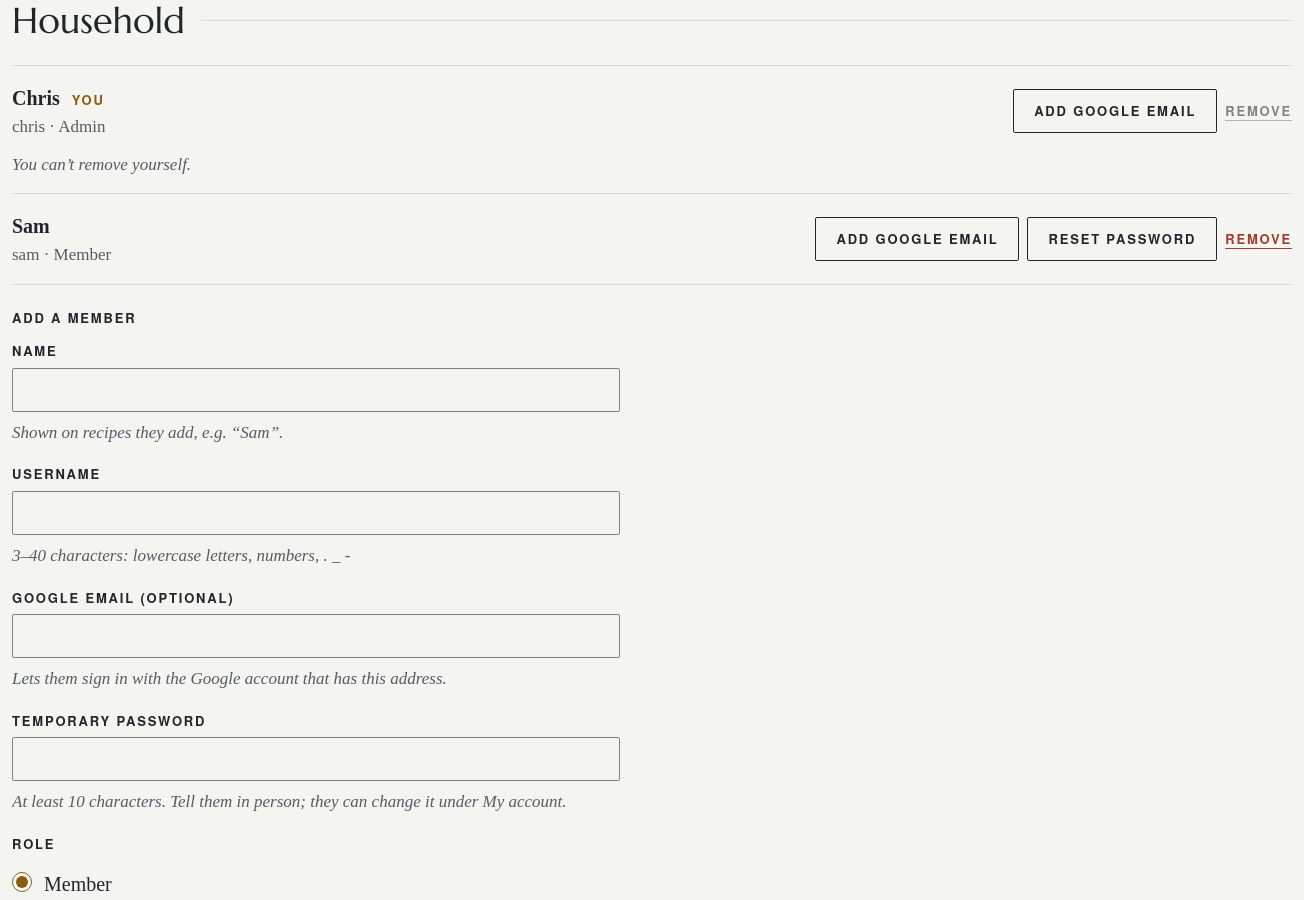
Test case: HouseholdSection › adds a member and lists them
Type "Alex" into the field labelled "Name" at (316, 390), box [12,368,620,412]
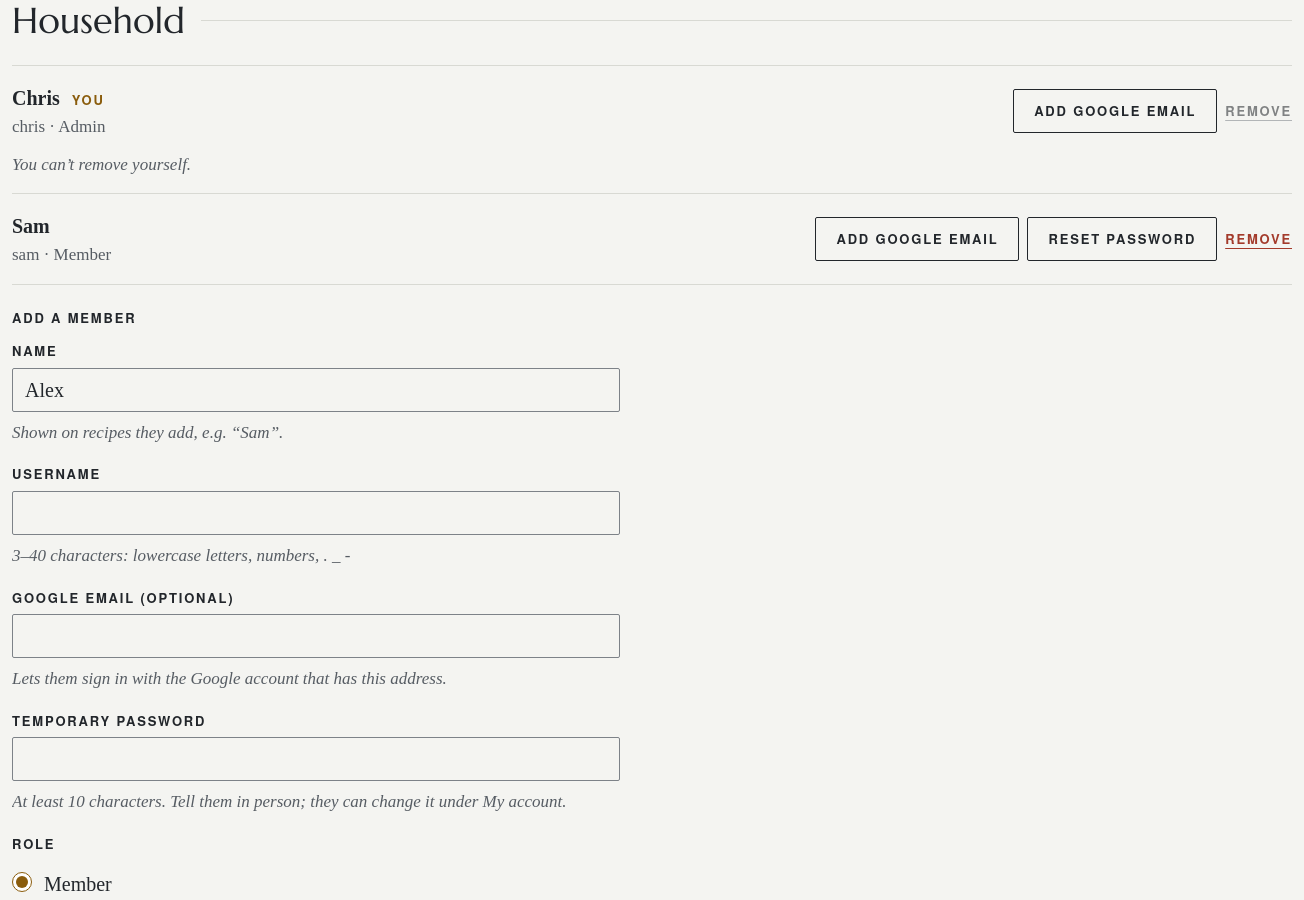
Type "alex" into the field labelled "Username" at (316, 513), box [12,491,620,535]
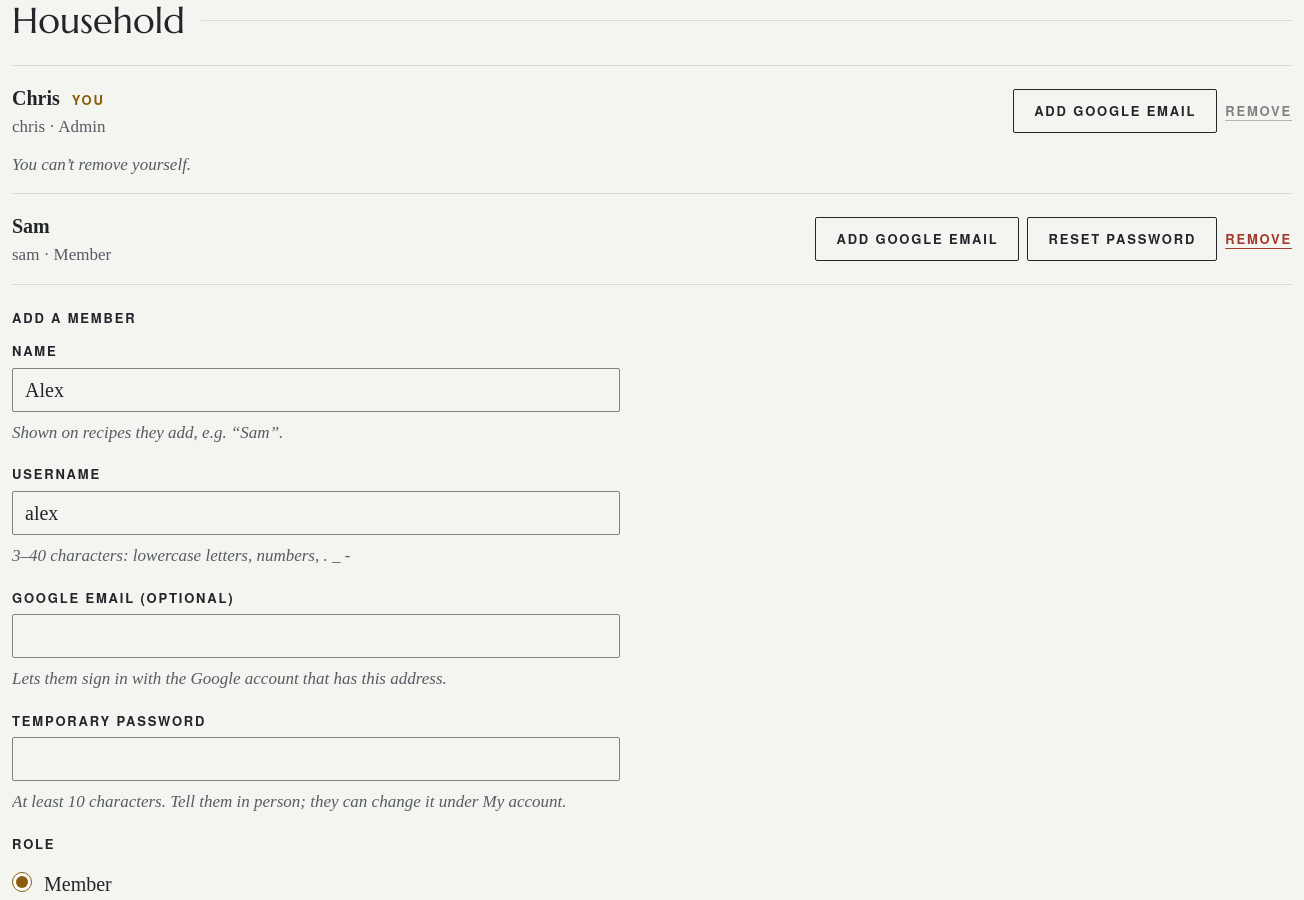
Type "longenough1" into the password field labelled "Temporary password" at (316, 759), box [12,737,620,781]
(page scrolled)
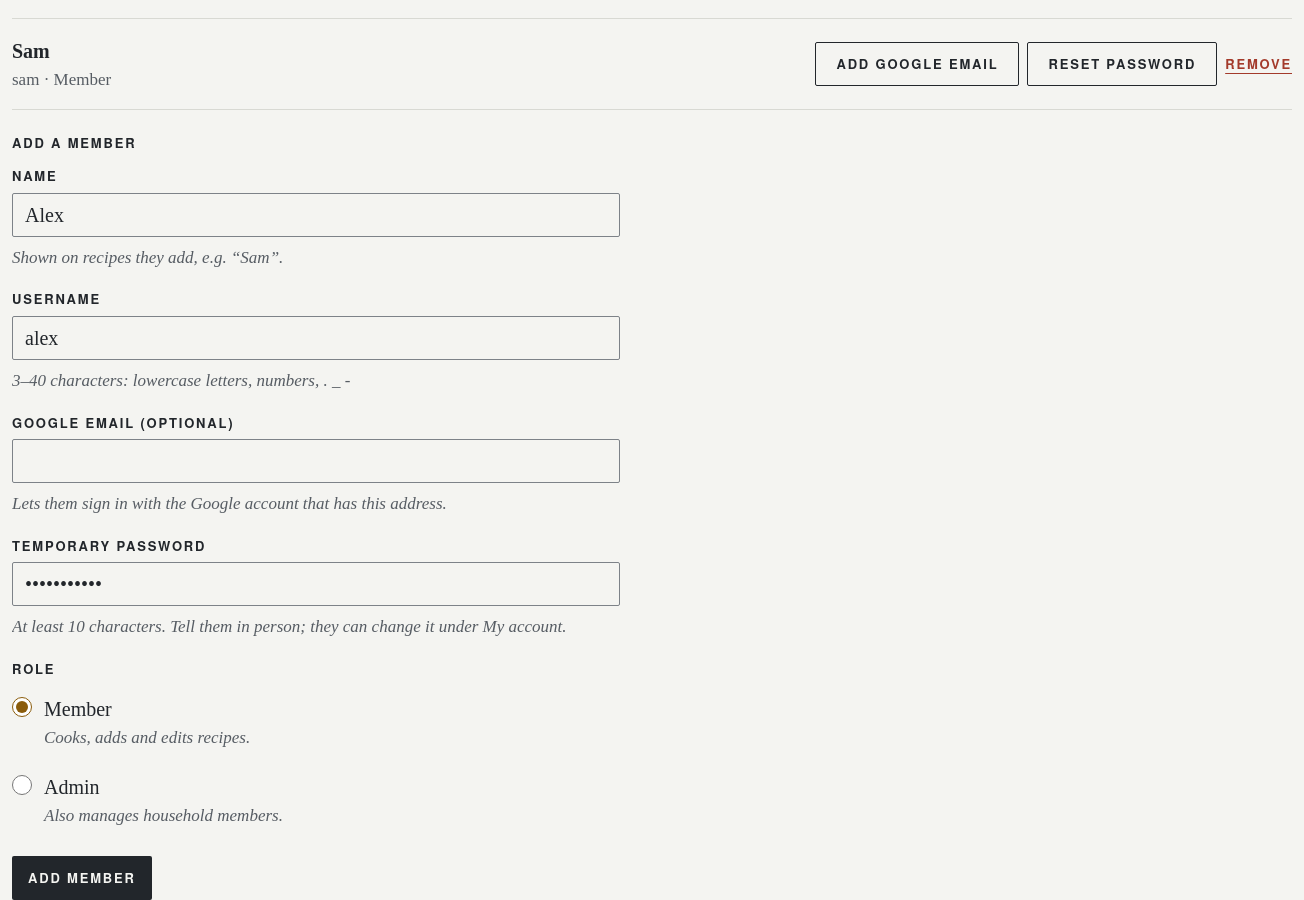
Submit the form, box [12,167,620,899]
(page scrolled)
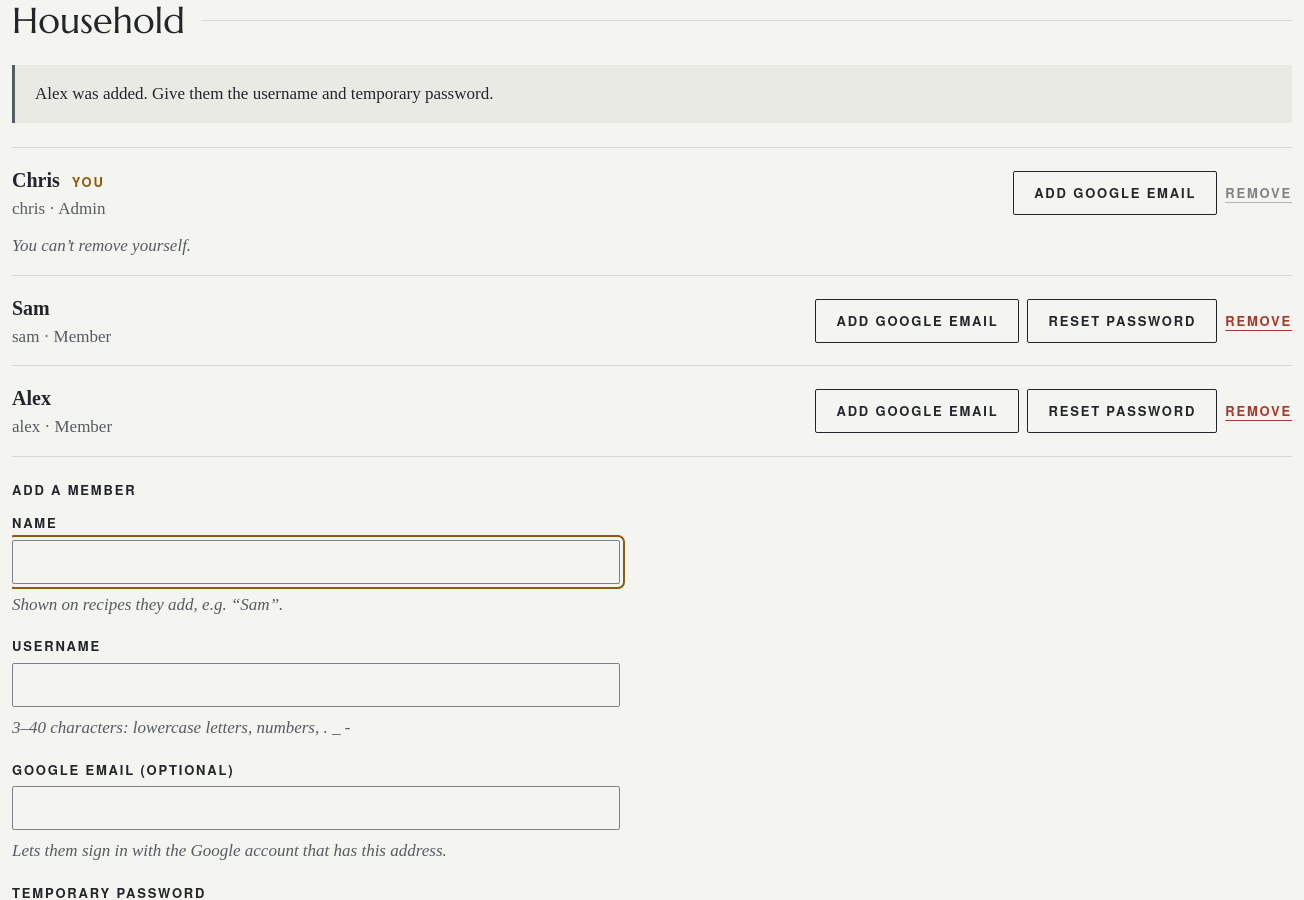
Now the list named "Household members" shows "Alex", box [12,387,51,409]
Now the message shows "Alex was added", box [35,84,493,103]
